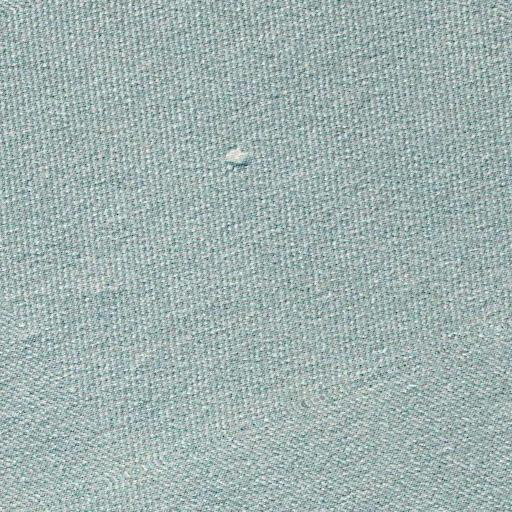knot: (212, 136, 264, 176)
